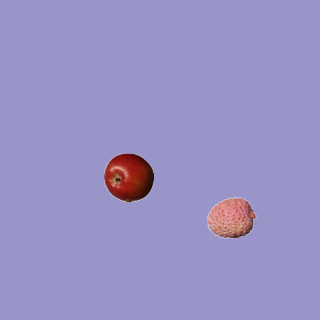Apple Braeburn: (103, 152, 153, 202)
Lychee: (206, 192, 256, 242)
